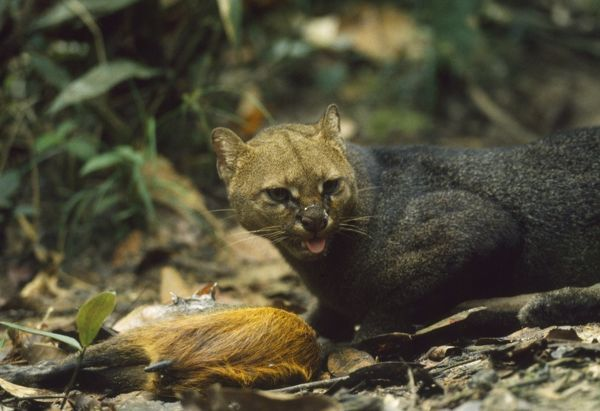Jaguarundi: (198, 97, 596, 331)
